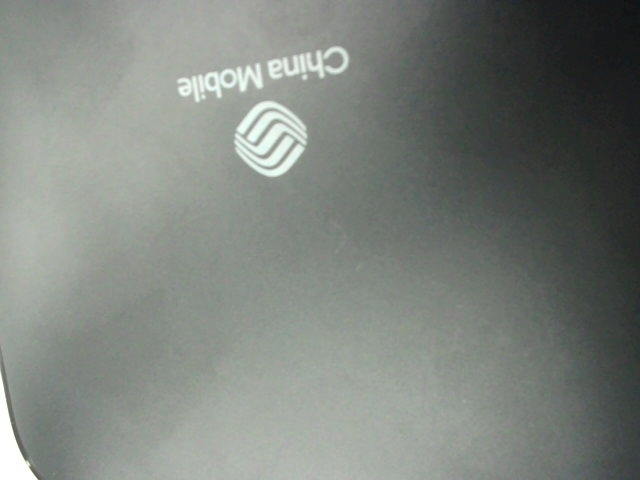AA_ChinaMobile: (161, 40, 352, 180)
